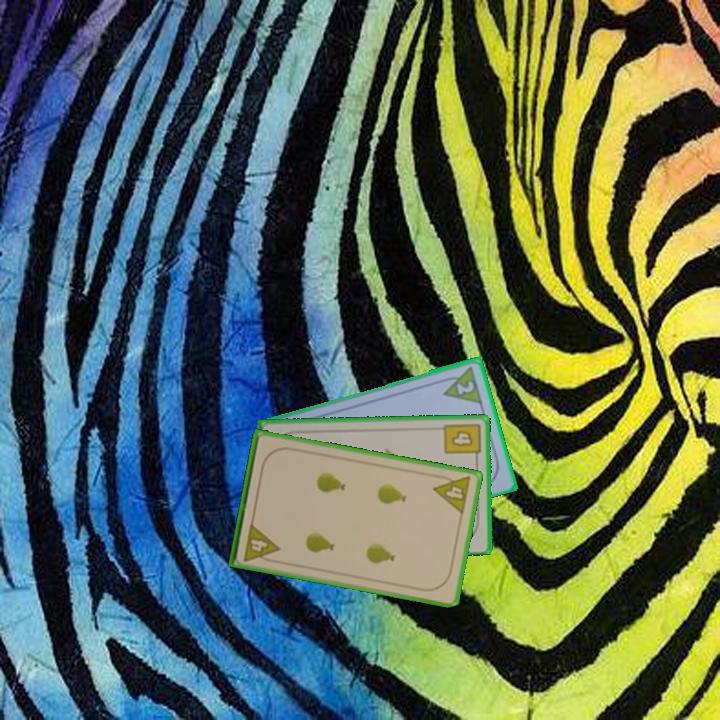2p: (437, 362, 486, 406)
4b: (441, 419, 483, 463)
4p: (430, 471, 474, 517), (240, 520, 282, 565)
